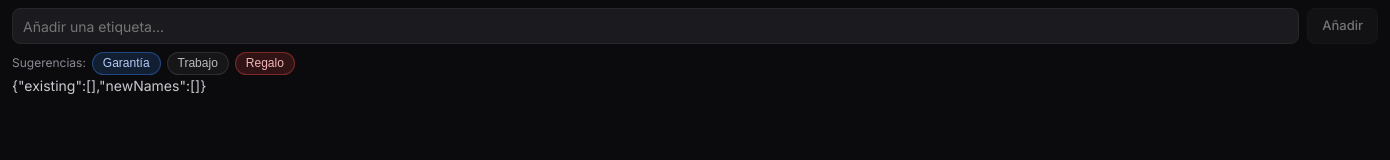
Scenario: TagPicker (spec 051 H1) › Intro con el nombre de una existente (sin tildes ni mayúsculas) la elige; uno nuevo se añade como nueva
Type "GARANTIA" into the field labelled "Añadir una etiqueta" at (656, 26), box [12,8,1299,44]
Then press Enter
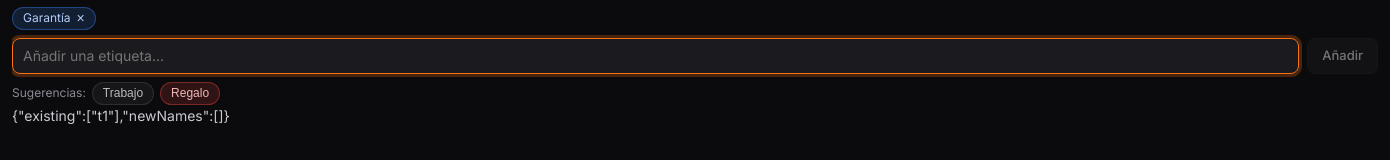
Type "Hogar" into the field labelled "Añadir una etiqueta" at (656, 56), box [12,38,1299,74]
Then press Enter
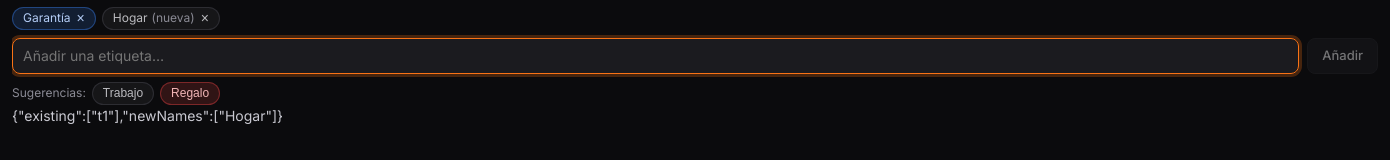
Expected: the text "(nueva)" is shown, [152,10,195,27]
